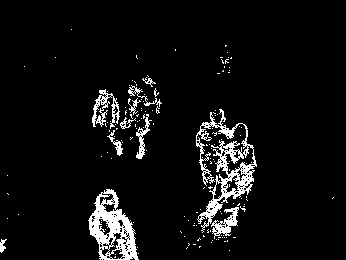person: (217, 121, 257, 240), (194, 106, 228, 225), (88, 189, 138, 260), (123, 75, 163, 159), (92, 89, 124, 157)
